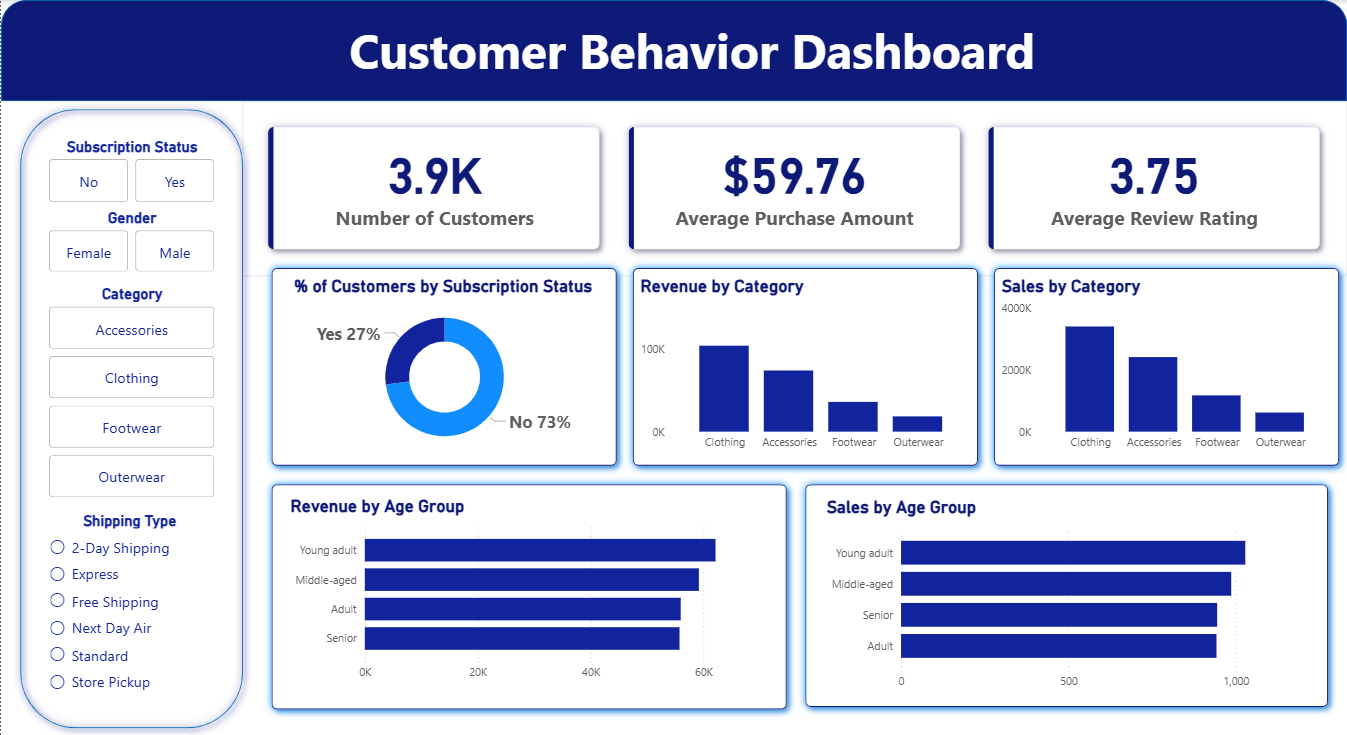

Layout of this report page (visuals, bound fields, positions):
{"tool":"powerbi","page":{"name":"Page 1","canvas":[1500,820],"ordinal":0},"visuals":[{"type":"cardVisual","fields":{"Data":["customer_behaviour customers.Number of Customers","customer_behaviour customers.Average Purchase Amount","customer_behaviour customers.Average Review Rating"]},"box":[268.8,112.8,1231.1,195],"z":0},{"type":"shape","box":[0,0,1499.9,112.8],"z":1000},{"type":"textbox","box":[0,13.9,1499.9,98.9],"z":4000},{"type":"shape","box":[292.5,289.7,402.5,238.1],"z":5000},{"type":"donutChart","title":"% of Customers by Subscription Status","fields":{"Category":["customer_behaviour customers.subscription_status"],"Y":["CountNonNull(customer_behaviour customers.customer_id)"]},"box":[321.7,307.8,345.4,203.3],"z":6000},{"type":"shape","box":[694.9,289.7,402.5,238.1],"z":7000},{"type":"shape","box":[1097.4,289.7,402.5,238.1],"z":8000},{"type":"clusteredColumnChart","title":"Revenue by Category","fields":{"Y":["Sum(customer_behaviour customers.purchase_amount)"],"Category":["customer_behaviour customers.category"]},"box":[707.5,307.8,377.4,203.3],"z":9000},{"type":"clusteredColumnChart","title":"Sales by Category","fields":{"Y":["Sum(customer_behaviour customers.customer_id)"],"Category":["customer_behaviour customers.category"]},"box":[1110,307.8,377.4,203.3],"z":10000},{"type":"shape","box":[12.5,112.8,266,707.5],"z":11000},{"type":"advancedSlicerVisual","title":"Subscription Status","fields":{"Values":["customer_behaviour customers.subscription_status"]},"box":[48.7,153.2,195,78],"z":12000},{"type":"advancedSlicerVisual","title":"Gender","fields":{"Values":["customer_behaviour customers.gender"]},"box":[48.7,232.6,195,75.2],"z":13000},{"type":"advancedSlicerVisual","title":"Category","fields":{"Values":["customer_behaviour customers.category"]},"box":[48.7,317.5,195,242.3],"z":14000},{"type":"shape","box":[887.2,531.2,600.2,266],"z":14000,"group":"g1"},{"type":"clusteredBarChart","title":"Sales by Age Group","fields":{"Y":["CountNonNull(customer_behaviour customers.customer_id)"],"Category":["customer_behaviour customers.age_group"]},"box":[914.9,554.3,555.7,222.8],"z":15000,"group":"g1"},{"type":"listSlicer","title":"Shipping Type","fields":{"Values":["customer_behaviour customers.shipping_type"]},"box":[48.7,569.6,189.4,215.9],"z":15000},{"type":"group","id":"g1","title":"Group 1","box":[887.2,531.2,600.2,266],"z":16000},{"type":"shape","box":[292.5,530.6,591.9,268.8],"z":17500,"group":"g2"},{"type":"clusteredBarChart","title":"Revenue by Age Group","fields":{"Y":["Sum(customer_behaviour customers.purchase_amount)"],"Category":["customer_behaviour customers.age_group"]},"box":[317.6,552.9,543.1,214.5],"z":18000,"group":"g2"},{"type":"group","id":"g2","title":"Group 2","box":[292.5,530.6,591.9,268.8],"z":18001}]}

Visuals, with their boxes in screenshot pixels (x1, y1, x2, y2), scaled from the page's 1500x820 canvas onto the 1347x735 screenshot:
cardVisual - customer_behaviour customers.Number of Customers x customer_behaviour customers.Average Purchase Amount: region(241, 101, 1346, 276)
shape: region(0, 0, 1346, 101)
textbox: region(0, 12, 1346, 101)
shape: region(263, 260, 624, 473)
"% of Customers by Subscription Status" donutChart: region(289, 276, 599, 458)
shape: region(624, 260, 985, 473)
shape: region(985, 260, 1346, 473)
"Revenue by Category" clusteredColumnChart: region(635, 276, 974, 458)
"Sales by Category" clusteredColumnChart: region(997, 276, 1336, 458)
shape: region(11, 101, 250, 734)
"Subscription Status" advancedSlicerVisual: region(44, 137, 219, 207)
"Gender" advancedSlicerVisual: region(44, 208, 219, 276)
"Category" advancedSlicerVisual: region(44, 285, 219, 502)
shape: region(797, 476, 1336, 715)
"Sales by Age Group" clusteredBarChart: region(822, 497, 1321, 697)
"Shipping Type" listSlicer: region(44, 511, 214, 704)
"Group 1" group: region(797, 476, 1336, 715)
shape: region(263, 476, 794, 717)
"Revenue by Age Group" clusteredBarChart: region(285, 496, 773, 688)
"Group 2" group: region(263, 476, 794, 717)
